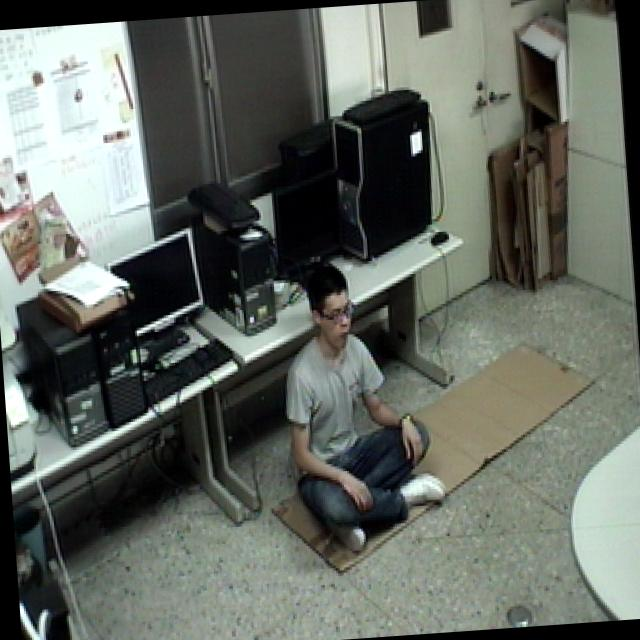sit: (274, 246, 458, 555)
